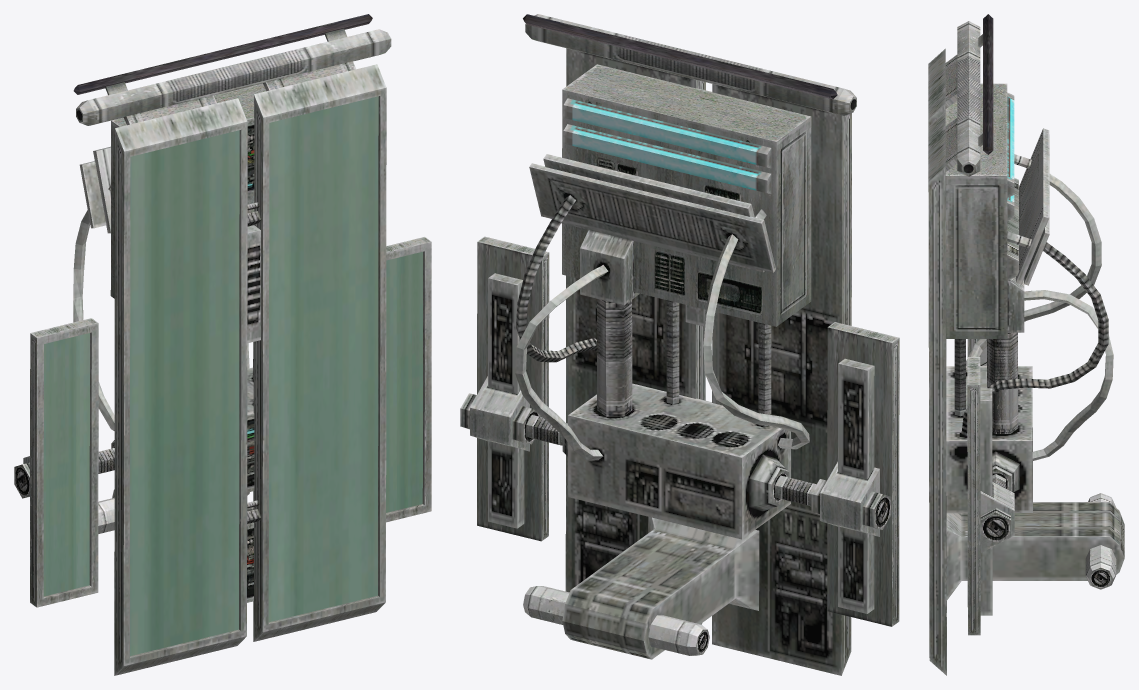
Rendered from ins_all_pow_solar_panels_u0_l0.fbx.
3 views of the same model, side by side, from view 1: azimuth 30°, elevation 25°; view 2: azimuth 150°, elevation 25°; view 3: azimuth 270°, elevation 25° (orthographic). The views are drawn at different scales.
Parts seen in each view (by area): view 1: mesh_node; view 2: mesh_node; view 3: mesh_node.
Boxes of the visible parts, x1=… form: mesh_node: x1=14, y1=14, x2=431, y2=675; mesh_node: x1=460, y1=14, x2=899, y2=675; mesh_node: x1=928, y1=14, x2=1124, y2=675.
Size of the model in its own units: 4.1 by 5.74 by 1.9.
